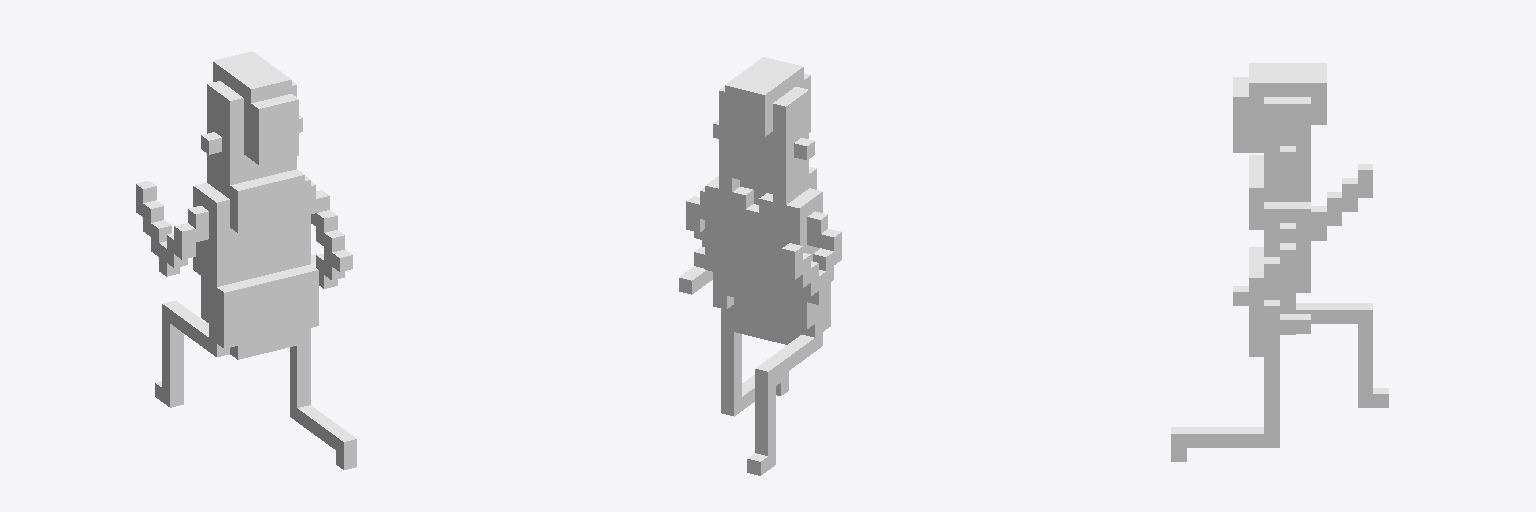
The model's file is character_One_Run1-07.obj.
3 renders of one model, left to right at view 1: azimuth 30°, elevation 25°; view 2: azimuth 150°, elevation 25°; view 3: azimuth 270°, elevation 25°, orthographic.
Size of the model in its own units: 11 by 26 by 14.